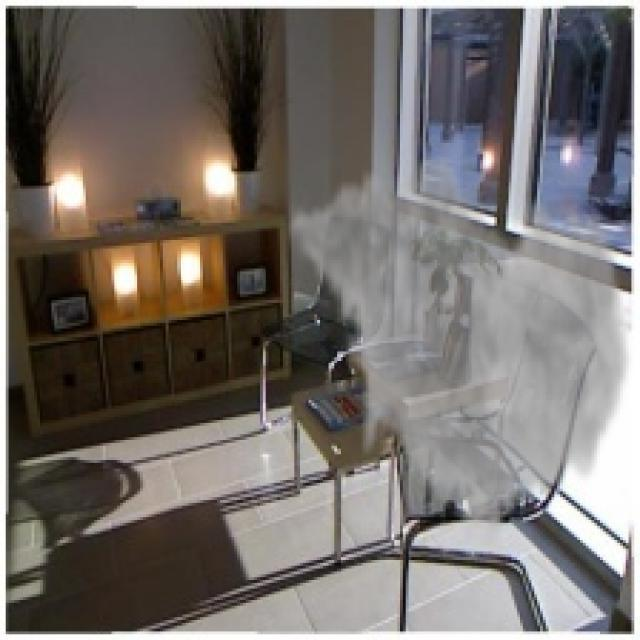Smoke: (282, 142, 634, 548)
